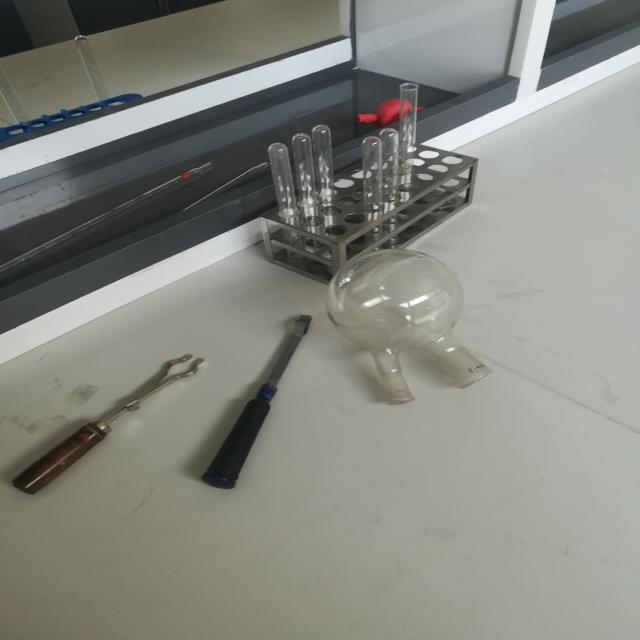Round_Bottom_Flask_Borosilicate_Glass_2_Neck: (306, 222, 519, 432)
TestTube_Holder: (5, 286, 196, 532), (177, 280, 320, 520)
